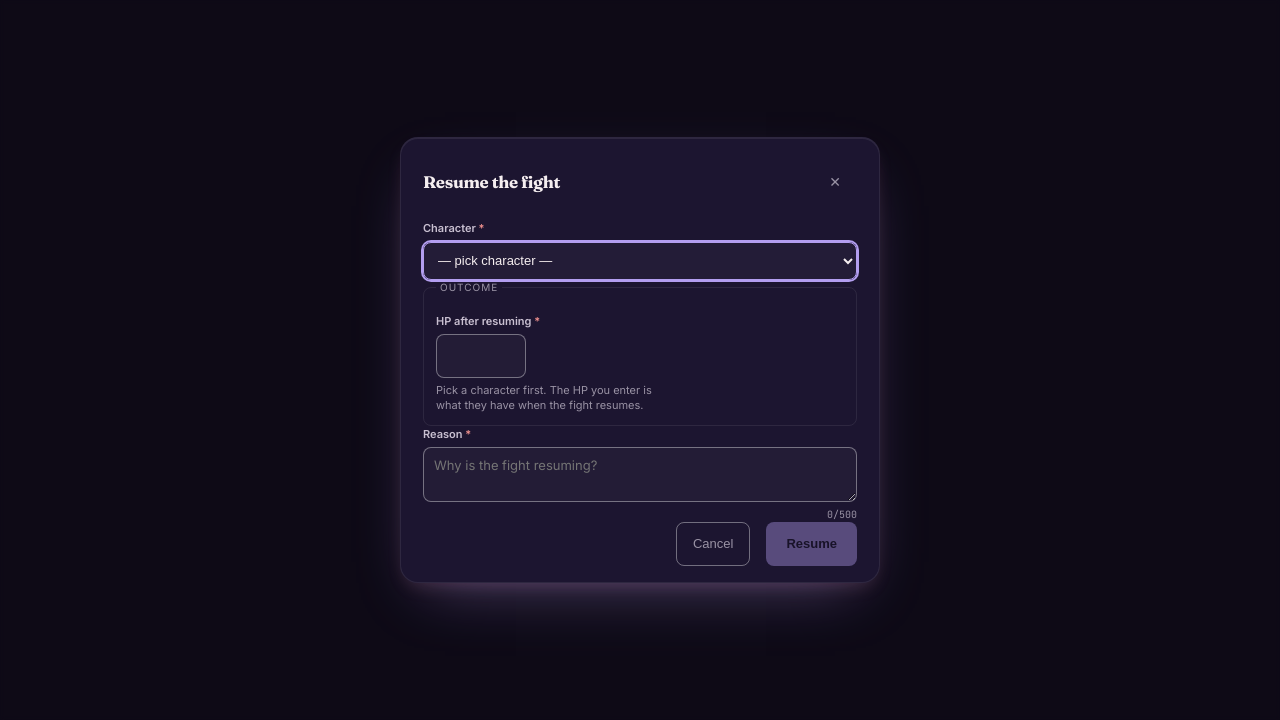
it: held with a character standing › with several listed there is a choice: the Character select takes focus, and picking a living one fills their HP
The width and height of the screenshot is (1280, 720).
Select "Dalen (12 of 34 HP)" in the dropdown labelled "Character *": x=640, y=261 [423,242,857,280]
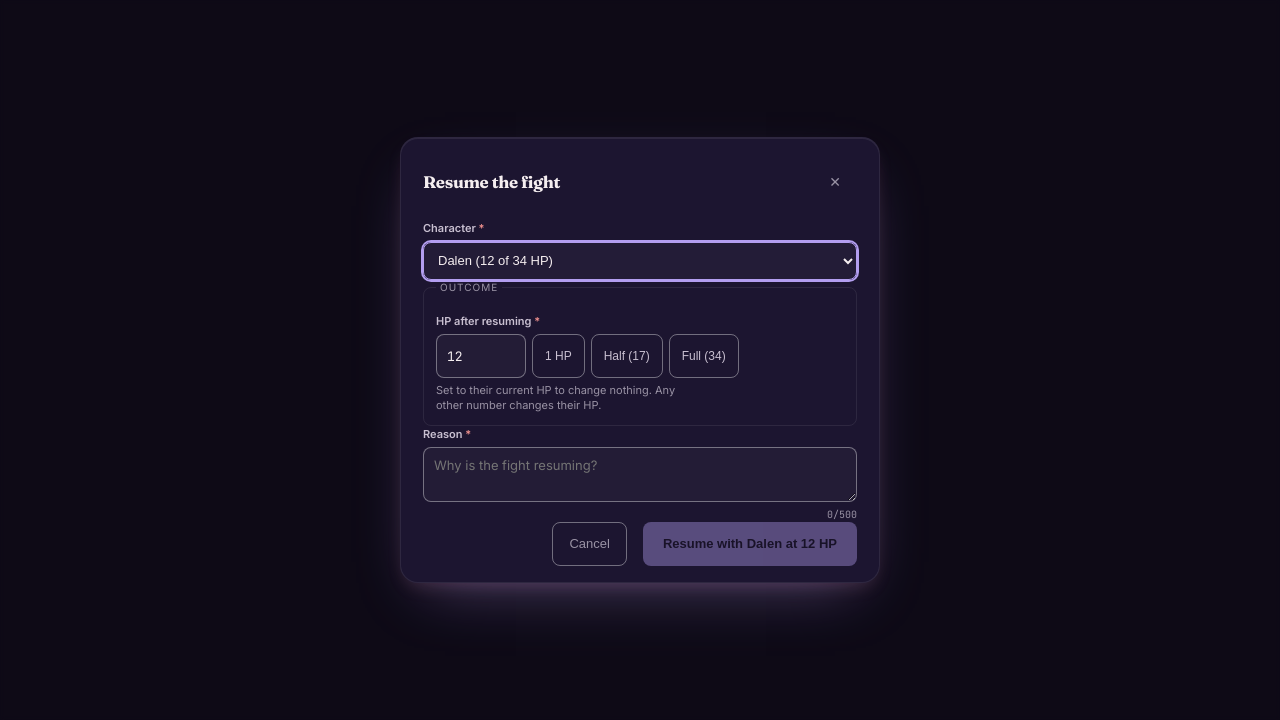
Expected: the number field labelled "HP after resuming *" holds "12", [436,334,526,378]
Expected: the submit button reads "Resume with Dalen at 12 HP", [643,522,857,566]
